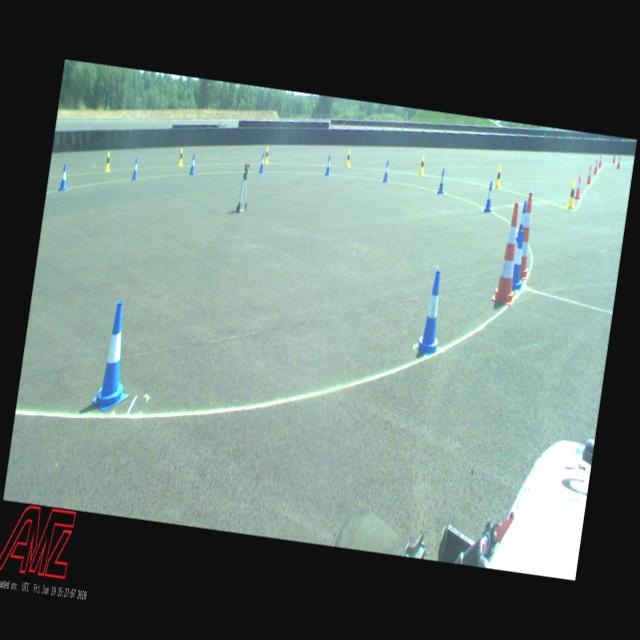blue_cone: (92, 299, 139, 414), (414, 268, 451, 357), (510, 230, 529, 291), (515, 200, 527, 243), (484, 182, 496, 212), (59, 164, 70, 191), (438, 168, 447, 194), (132, 157, 140, 181), (383, 160, 391, 183), (190, 154, 198, 176), (325, 154, 332, 176), (259, 152, 266, 172)
large_orange_cone: (491, 201, 529, 307), (516, 193, 538, 280)
orange_cone: (574, 174, 584, 200), (586, 164, 594, 184), (594, 158, 600, 174), (616, 154, 622, 168), (598, 154, 604, 167)
unknown_cone: (613, 154, 616, 164)
yellow_cone: (567, 181, 578, 210), (494, 165, 504, 189), (104, 151, 112, 172), (419, 156, 426, 176), (346, 150, 352, 168), (264, 146, 270, 164), (178, 148, 184, 166)
